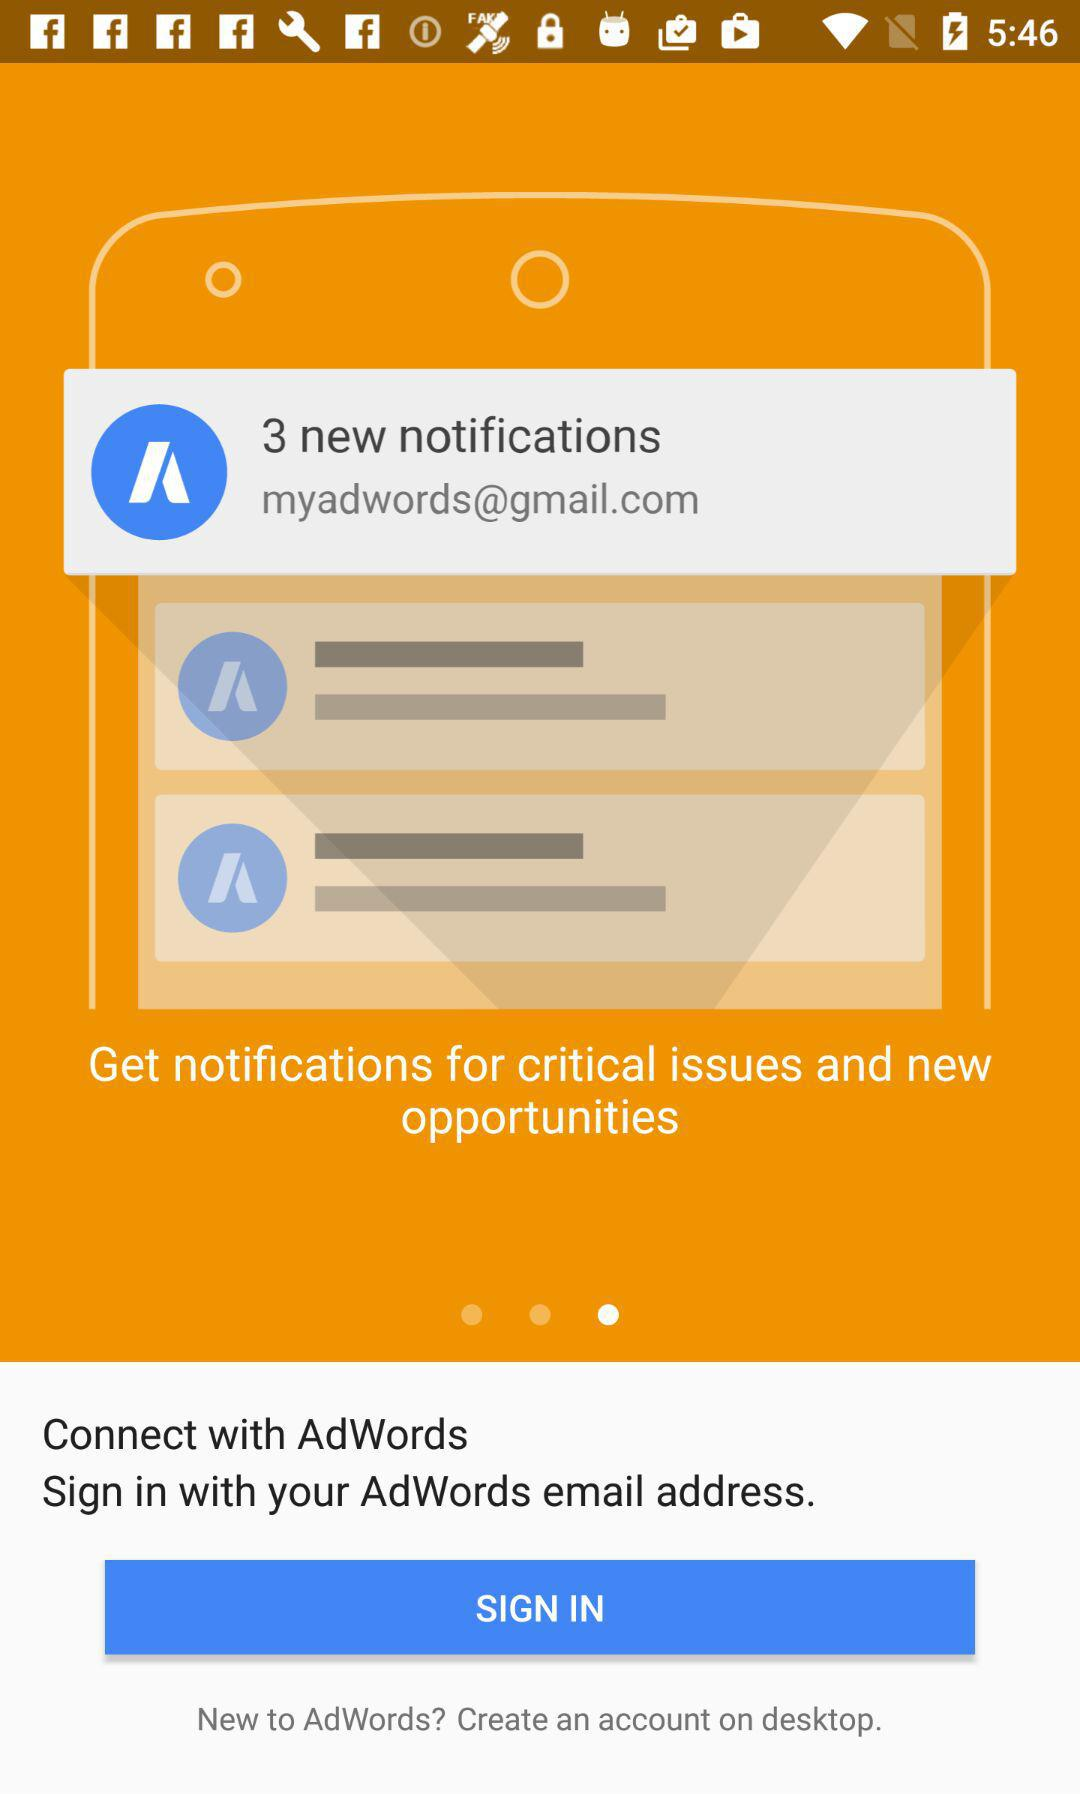Image: (63, 191, 1017, 1010)
PageIndicator: (459, 1303, 623, 1328)
Text: (88, 1043, 992, 1146), (44, 1472, 814, 1516), (199, 1704, 881, 1738), (44, 1416, 469, 1451)
TextButton: (105, 1559, 976, 1656)
UpperTaskBar: (1, 1, 1080, 64)
